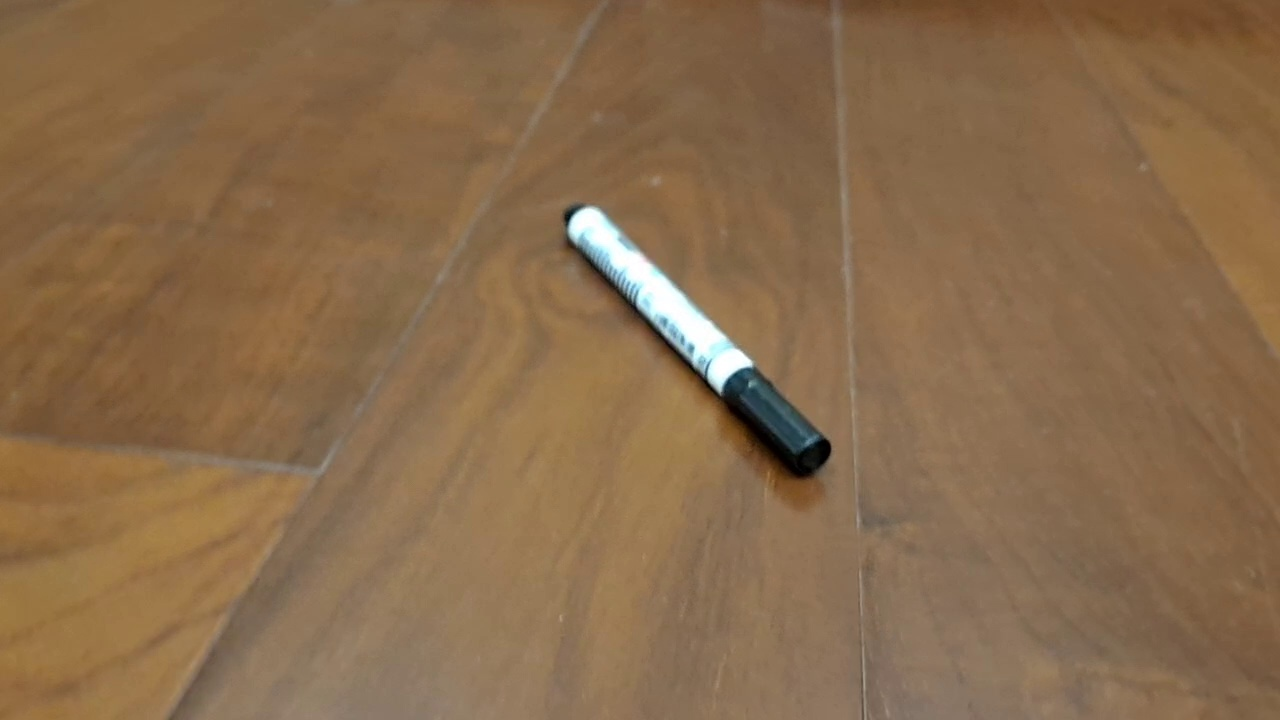pen: (561, 201, 832, 480)
